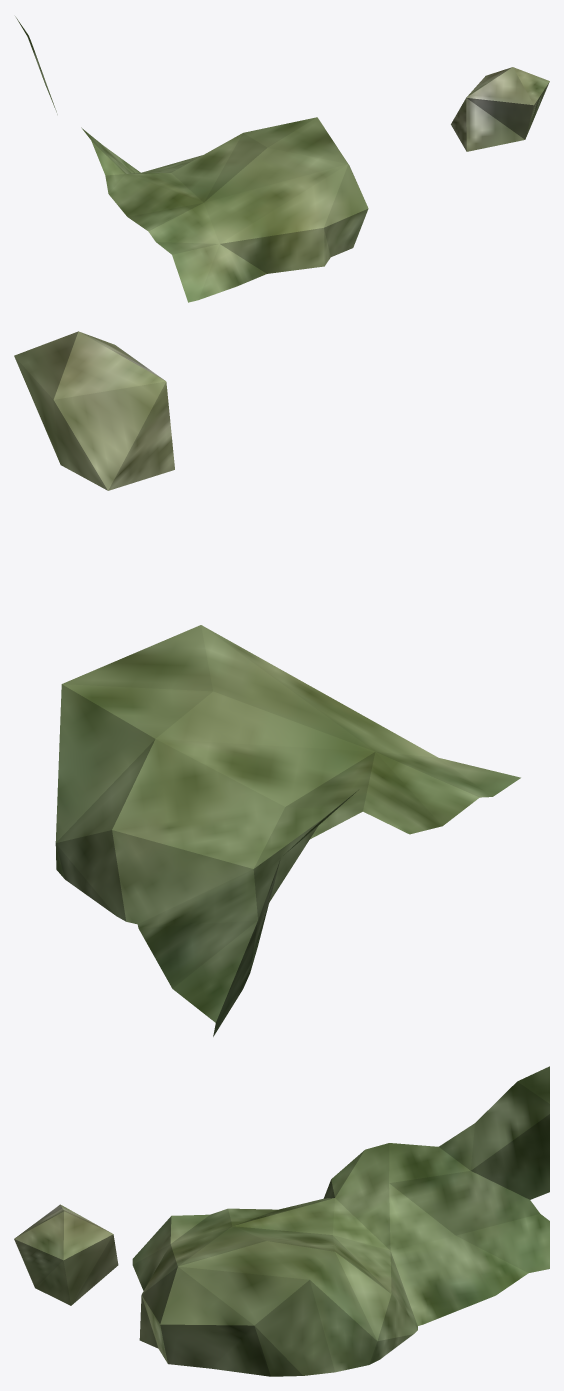
The picture shows the model from 3 angles, top to bottom: view 1: azimuth 30°, elevation 25°; view 2: azimuth 150°, elevation 25°; view 3: azimuth 270°, elevation 25°; orthographic projection. The views are drawn at different scales.
Size of the model in its own units: 0.6565 by 0.3473 by 0.7638.
1 material, 1 textured.
